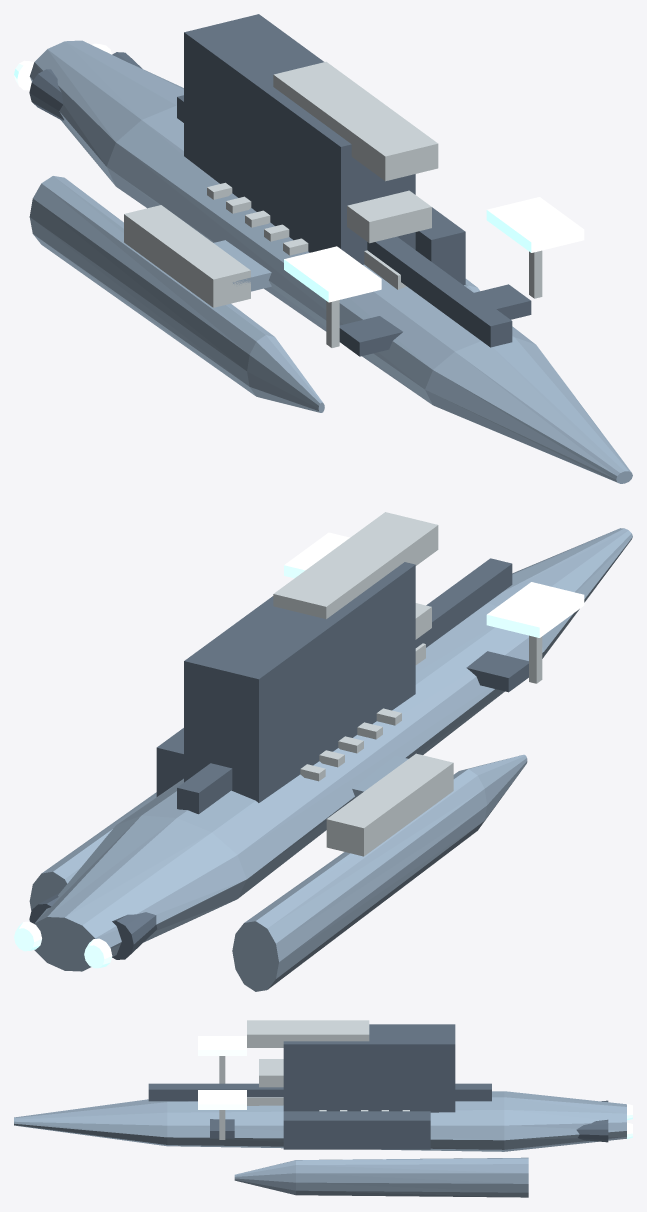
3 renders of one model, top to bottom at view 1: azimuth 30°, elevation 25°; view 2: azimuth 150°, elevation 25°; view 3: azimuth 270°, elevation 25°, orthographic. The views are drawn at different scales.
Size of the model in its own units: 2.69 by 2.62 by 10.3.
